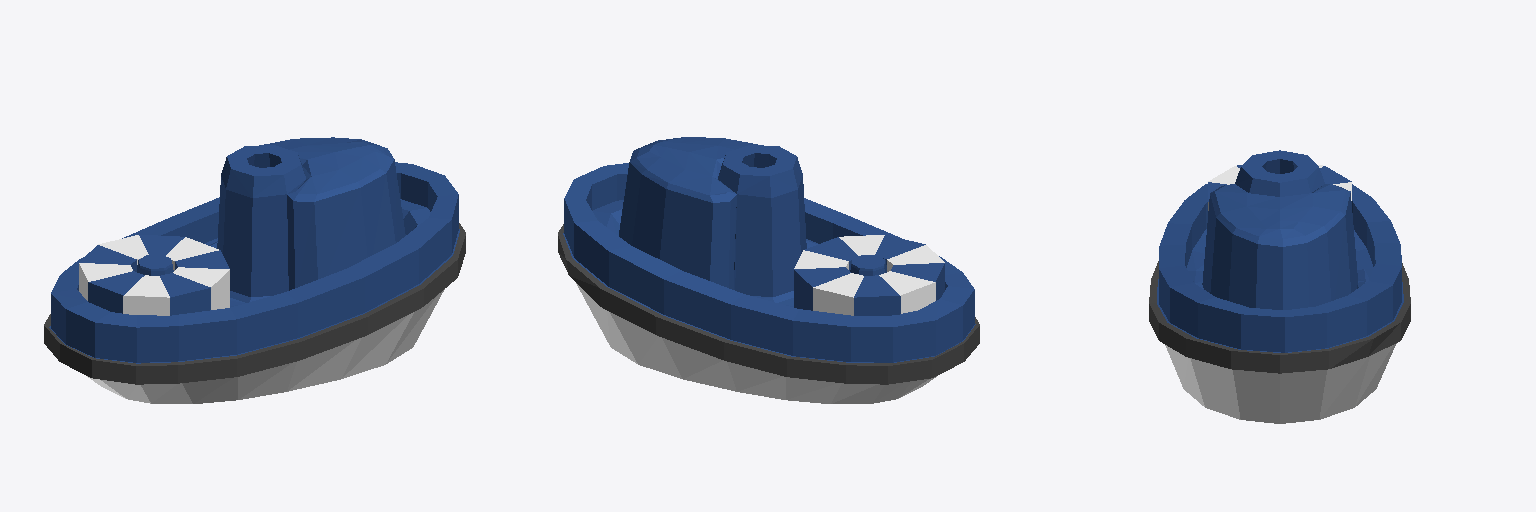
The model's file is ToyBoat.obj.
3 views of the same model, side by side, from view 1: azimuth 30°, elevation 25°; view 2: azimuth 150°, elevation 25°; view 3: azimuth 270°, elevation 25° (orthographic).
Parts seen in each view (by area): view 1: ToyBoat_Geo; view 2: ToyBoat_Geo; view 3: ToyBoat_Geo.
Part boxes in pixels (left/top/right/bottom): ToyBoat_Geo: left=44, top=137, right=465, bottom=403; ToyBoat_Geo: left=558, top=137, right=979, bottom=403; ToyBoat_Geo: left=1149, top=150, right=1410, bottom=423.
Bounding box in the file's own units: 8.75 × 3.98 × 5.06.